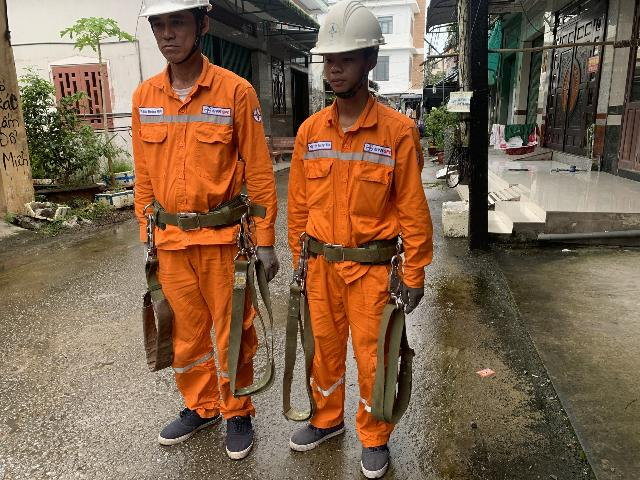gloves: (396, 280, 435, 323)
harness: (135, 191, 258, 241), (284, 221, 403, 271)
helmet: (296, 5, 407, 72), (107, 0, 224, 21)
shoes: (155, 374, 211, 446), (210, 402, 262, 458), (288, 408, 339, 452), (360, 428, 391, 480)
